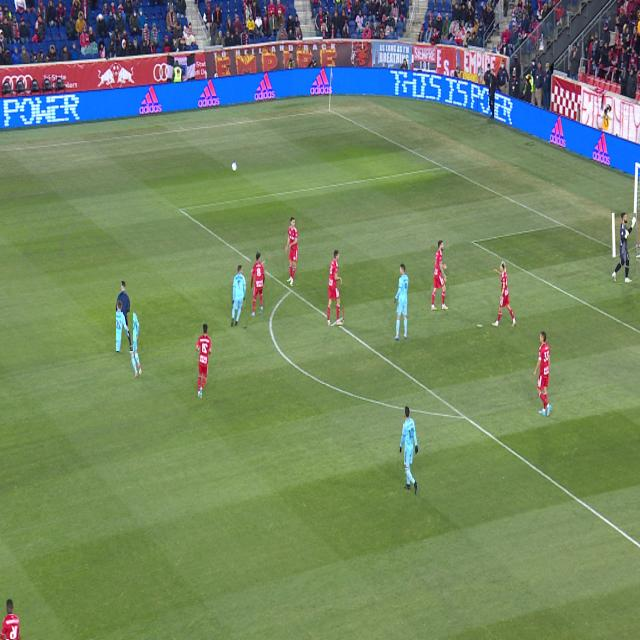football: (232, 161, 237, 172)
goalkeeper: (612, 213, 636, 283)
player: (119, 301, 142, 377), (492, 261, 517, 327), (400, 406, 418, 495), (534, 331, 551, 416), (431, 241, 449, 310), (196, 324, 212, 399), (328, 250, 343, 326), (394, 264, 409, 340), (231, 266, 246, 327), (285, 217, 298, 285), (251, 253, 265, 316), (0, 600, 19, 640)
referee: (116, 281, 133, 351)
